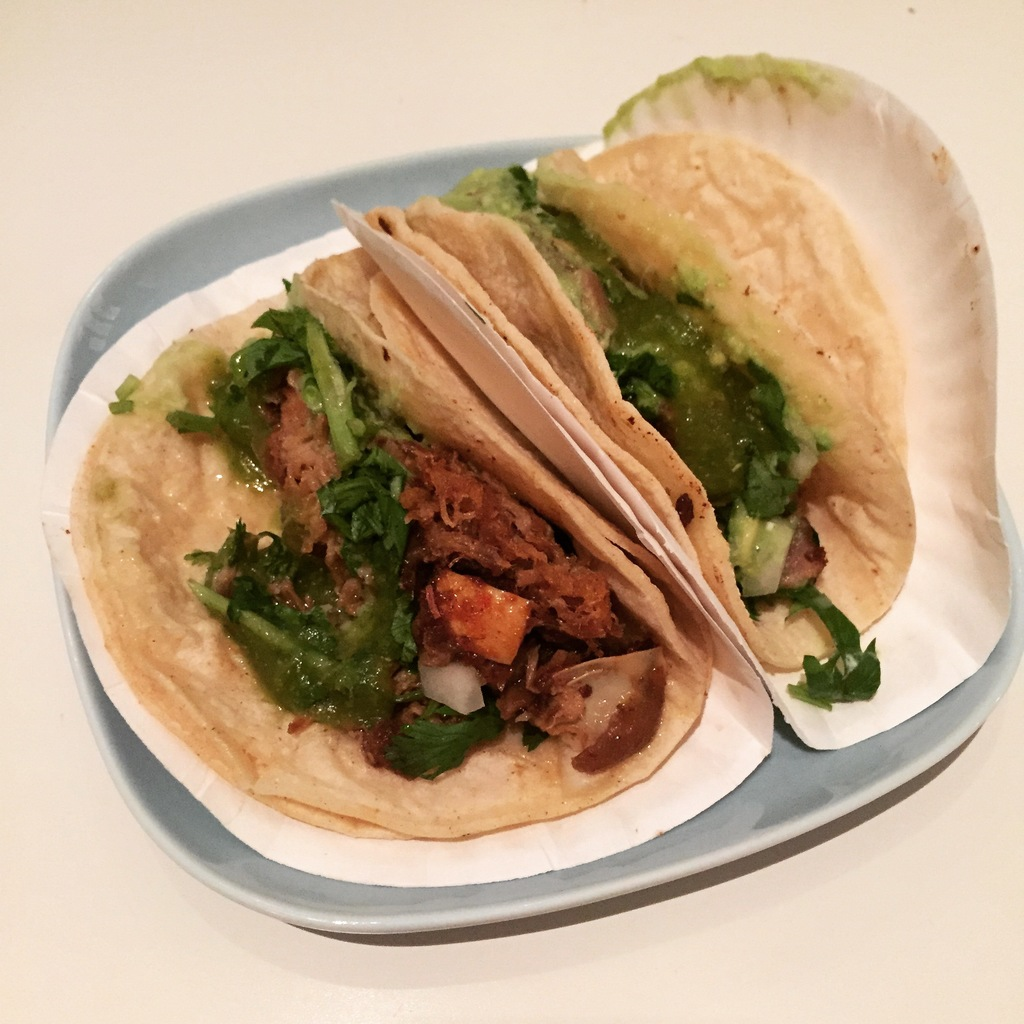taco: (68, 248, 712, 840), (381, 129, 925, 687)
